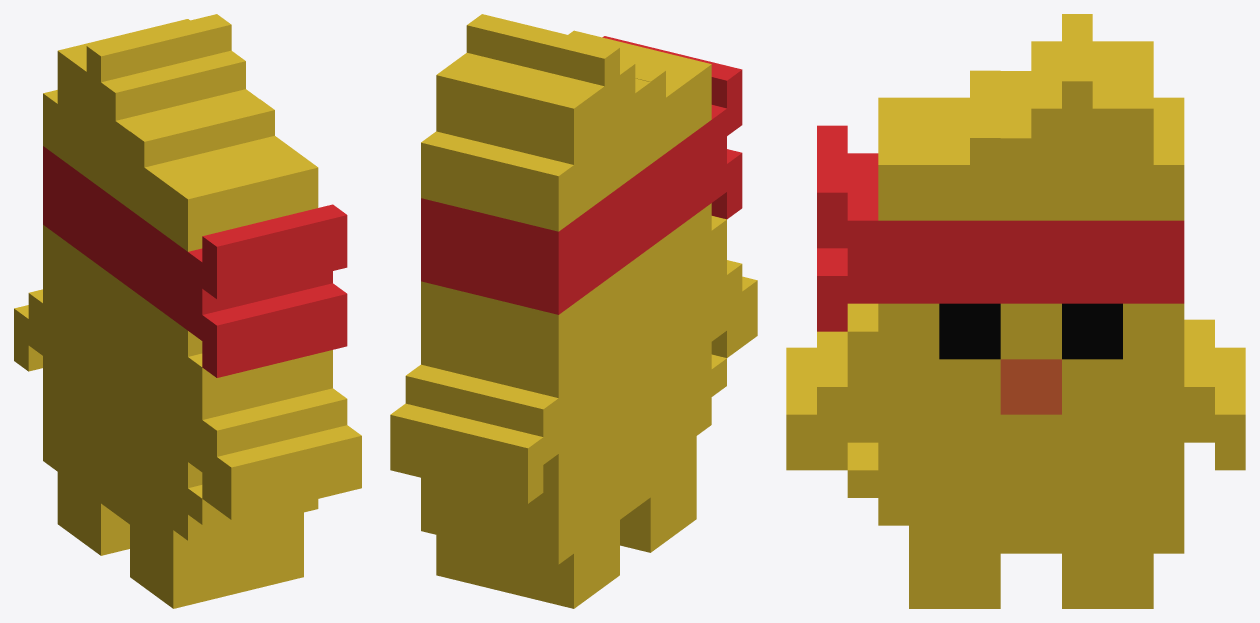
Rendered from Asi_Unity2.fbx.
3 views of the same model, side by side, from view 1: azimuth 30°, elevation 25°; view 2: azimuth 150°, elevation 25°; view 3: azimuth 270°, elevation 25° (orthographic). The views are drawn at different scales.
Visible parts, largest first — view 1: asi; view 2: asi; view 3: asi.
Boxes of the visible parts, bbox=[...] form: asi: bbox=[14, 14, 361, 608]; asi: bbox=[390, 14, 757, 608]; asi: bbox=[786, 14, 1245, 608].
Size of the model in its own units: 260 by 951 by 750.
